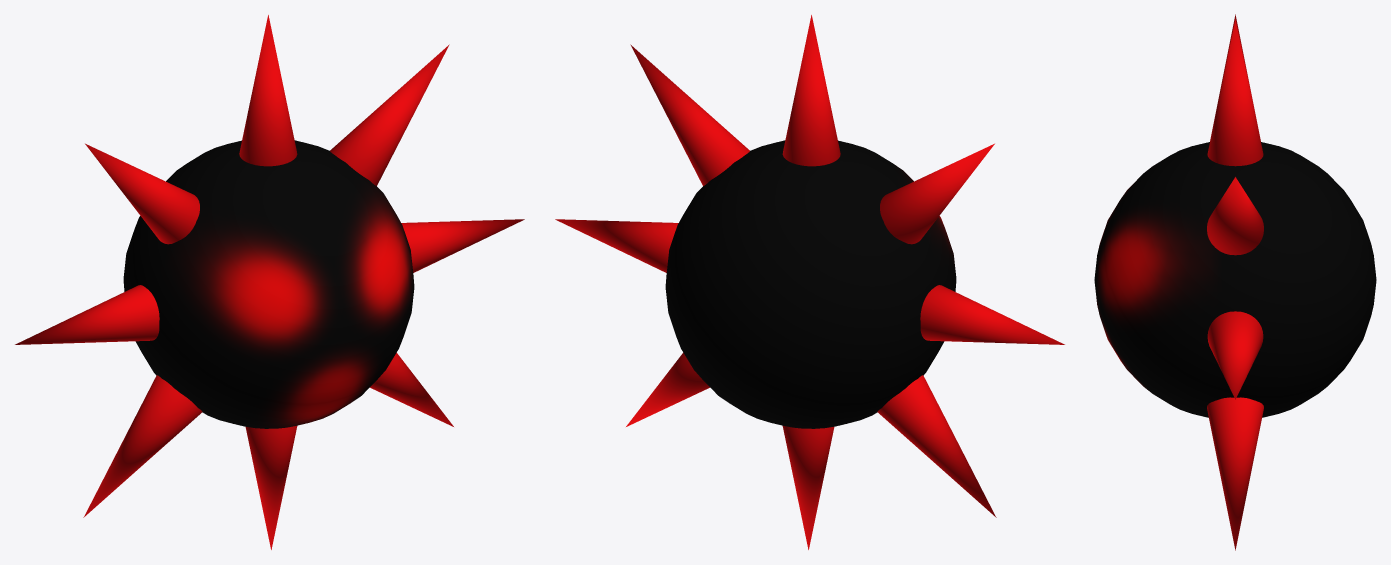
The model's file is Obstacles.fbx.
3 renders of one model, left to right at view 1: azimuth 30°, elevation 25°; view 2: azimuth 150°, elevation 25°; view 3: azimuth 270°, elevation 25°, orthographic. The views are drawn at different scales.
Parts seen in each view (by area): view 1: 球, 円錐.006, 円錐.004, 円錐.002, 円錐.003, 円錐.005, 円錐.001, 円錐, 円錐.007; view 2: 球, 円錐.006, 円錐.004, 円錐.002, 円錐.003, 円錐.005, 円錐.001, 円錐, 円錐.007; view 3: 球, 円錐.007, 円錐.002, 円錐, 円錐.004.
Boxes of the visible parts, x1,y1,x2,y2 form: 球: [123, 140, 414, 428]; 円錐.006: [83, 375, 202, 517]; 円錐.004: [330, 44, 449, 185]; 円錐.002: [239, 15, 297, 166]; 円錐.003: [15, 285, 159, 344]; 円錐.005: [85, 143, 199, 244]; 円錐.001: [245, 426, 297, 549]; 円錐: [401, 219, 524, 272]; 円錐.007: [370, 352, 453, 426]; 球: [665, 140, 956, 428]; 円錐.006: [877, 375, 996, 517]; 円錐.004: [630, 44, 749, 185]; 円錐.002: [782, 15, 840, 166]; 円錐.003: [920, 285, 1064, 344]; 円錐.005: [880, 143, 994, 244]; 円錐.001: [782, 426, 834, 549]; 円錐: [555, 219, 678, 272]; 円錐.007: [626, 352, 709, 426]; 球: [1094, 142, 1376, 417]; 円錐.007: [1207, 397, 1263, 550]; 円錐.002: [1207, 19, 1263, 166]; 円錐: [1207, 311, 1263, 399]; 円錐.004: [1207, 177, 1263, 255].
Bounding box in the file's own units: 122 × 122 × 60.
Materials: 2 (1 with a texture image).
